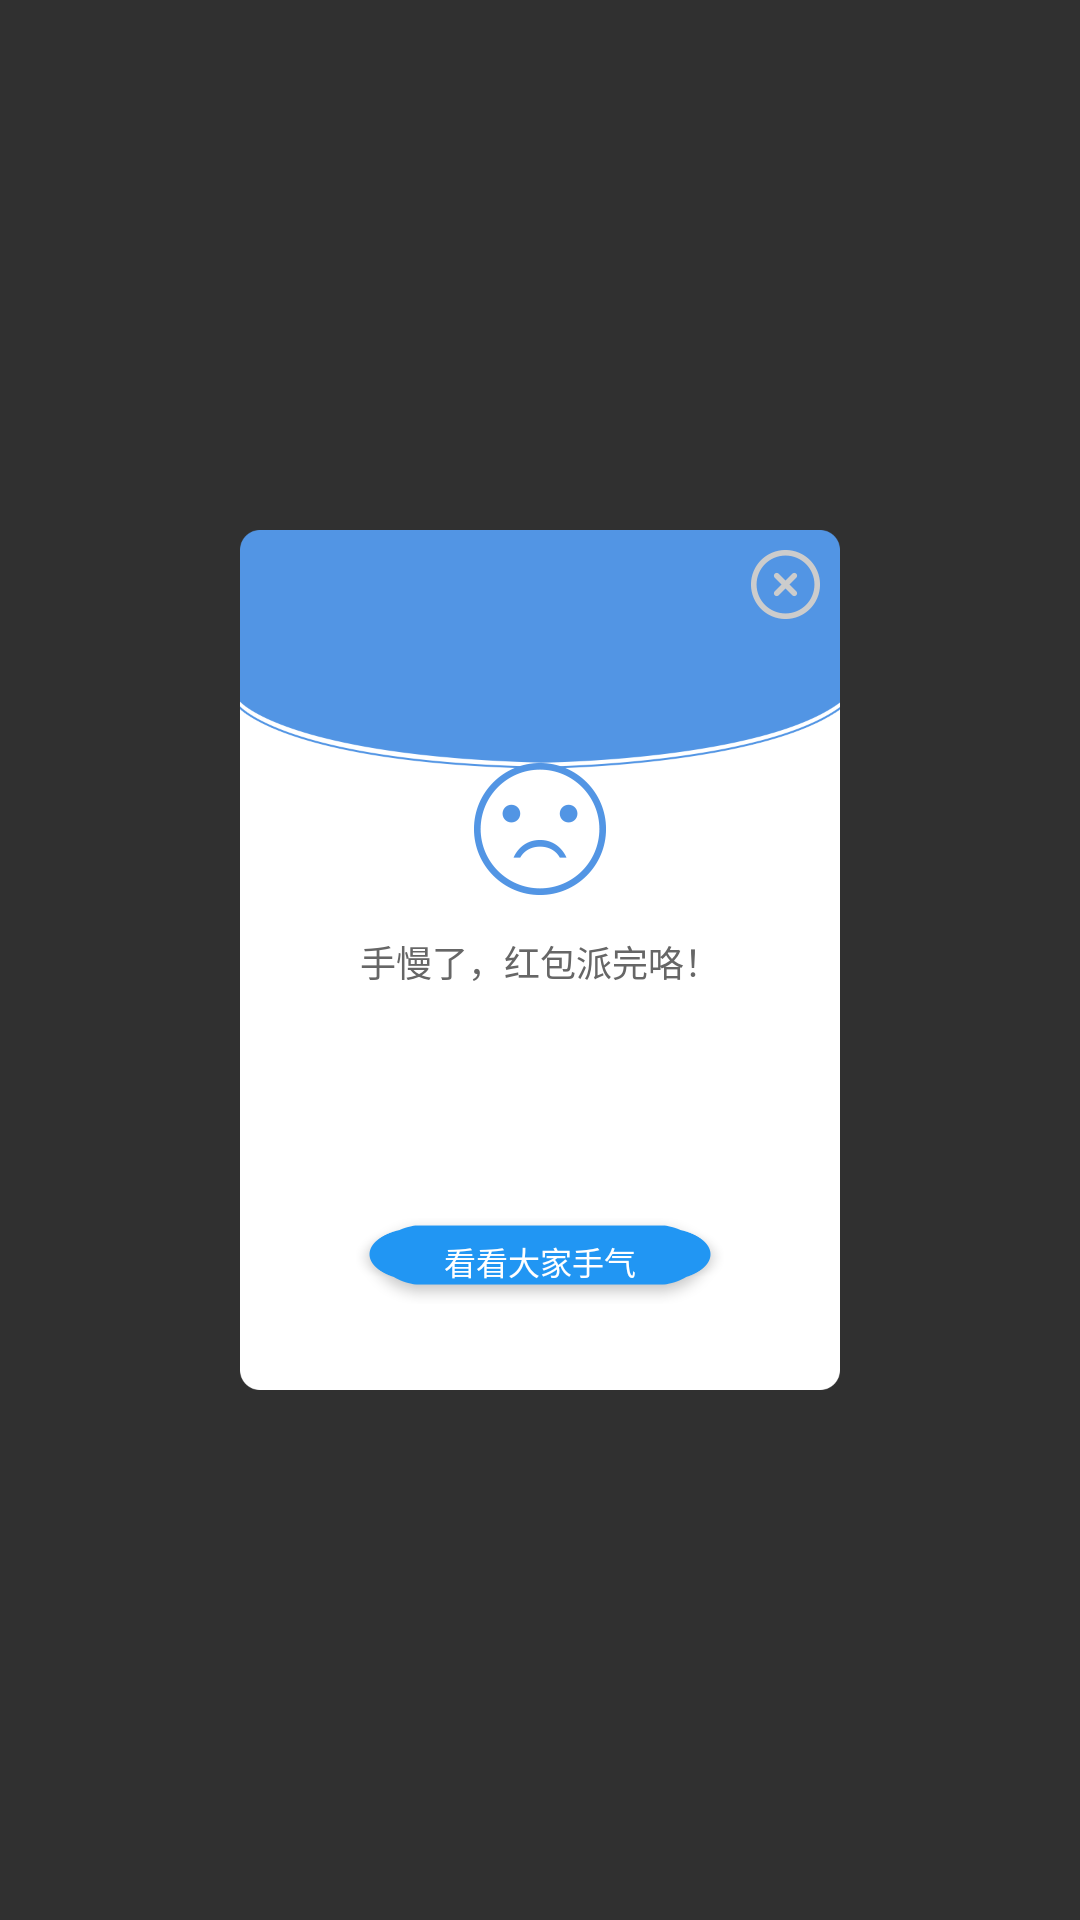

Where to tap for icons on this 1080×1920 app screen, as point (x, y):
guanbi: point (785, 584)
